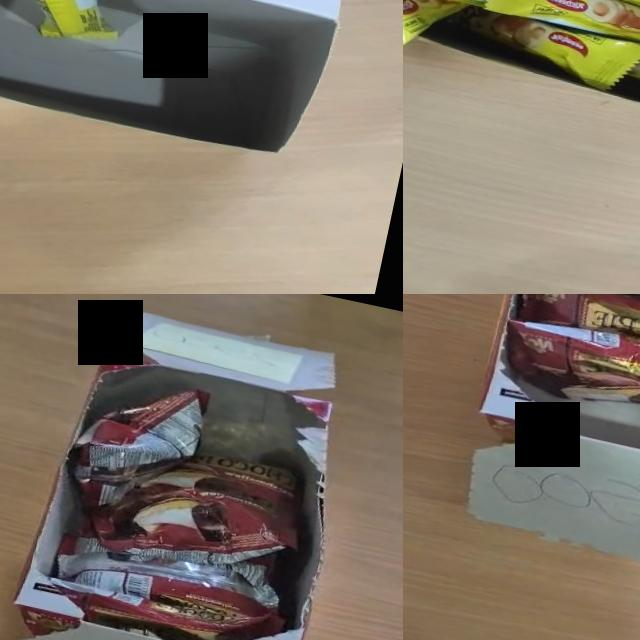Ahh: (438, 0, 640, 98), (483, 0, 640, 67), (0, 0, 130, 51), (403, 0, 467, 68)
Chocopie: (84, 429, 316, 588), (36, 531, 292, 640), (492, 294, 640, 437), (66, 366, 210, 506), (506, 294, 640, 368)
